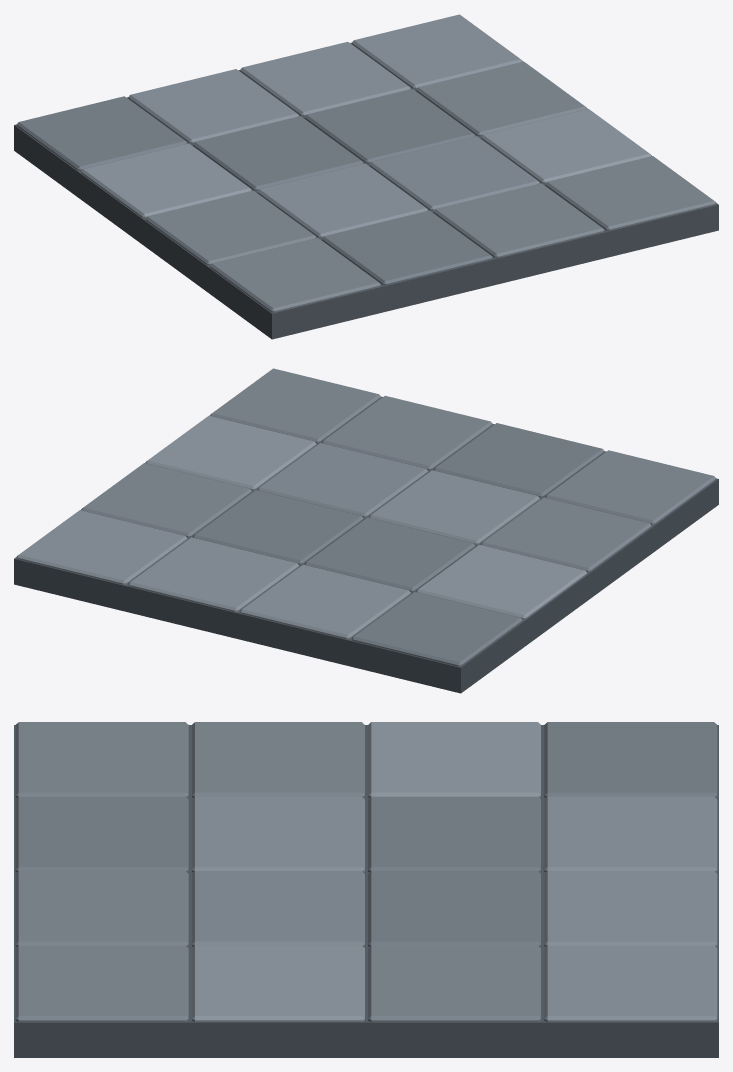
The model's file is MOD_12_Ceiling_Standard.glb.
3 renders of one model, top to bottom at view 1: azimuth 30°, elevation 25°; view 2: azimuth 150°, elevation 25°; view 3: azimuth 270°, elevation 25°, orthographic. The views are drawn at different scales.
Parts seen in each view (by area): view 1: MOD_12_Ceiling_Standard; view 2: MOD_12_Ceiling_Standard; view 3: MOD_12_Ceiling_Standard.
Boxes of the visible parts, x1=… form: MOD_12_Ceiling_Standard: x1=14, y1=14, x2=718, y2=339; MOD_12_Ceiling_Standard: x1=14, y1=368, x2=718, y2=693; MOD_12_Ceiling_Standard: x1=14, y1=722, x2=718, y2=1057.
Bounding box in the file's own units: 4 × 0.25 × 4.
